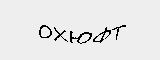Б: (51, 21, 77, 51)
О: (128, 20, 147, 39)
Х: (22, 25, 50, 49), (1, 21, 23, 49)
Щ: (102, 23, 128, 47)
Ұ: (77, 23, 101, 49)
